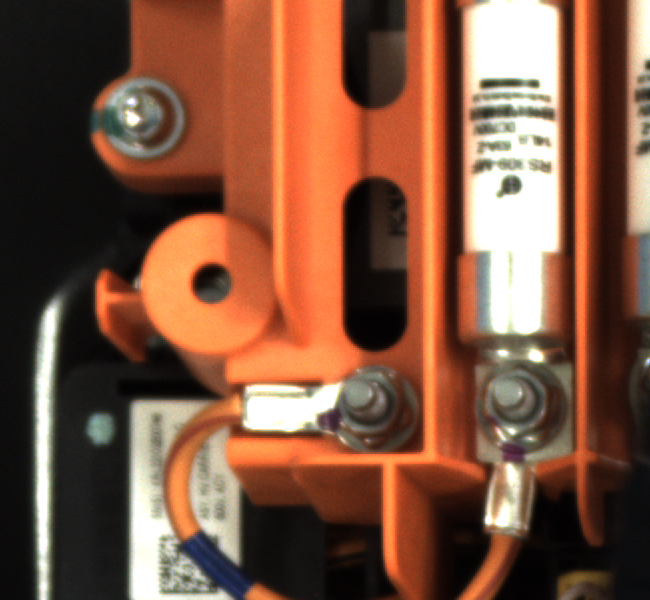screw_m: (98, 73, 203, 165)
screw_s: (478, 351, 585, 470), (315, 365, 430, 453)
